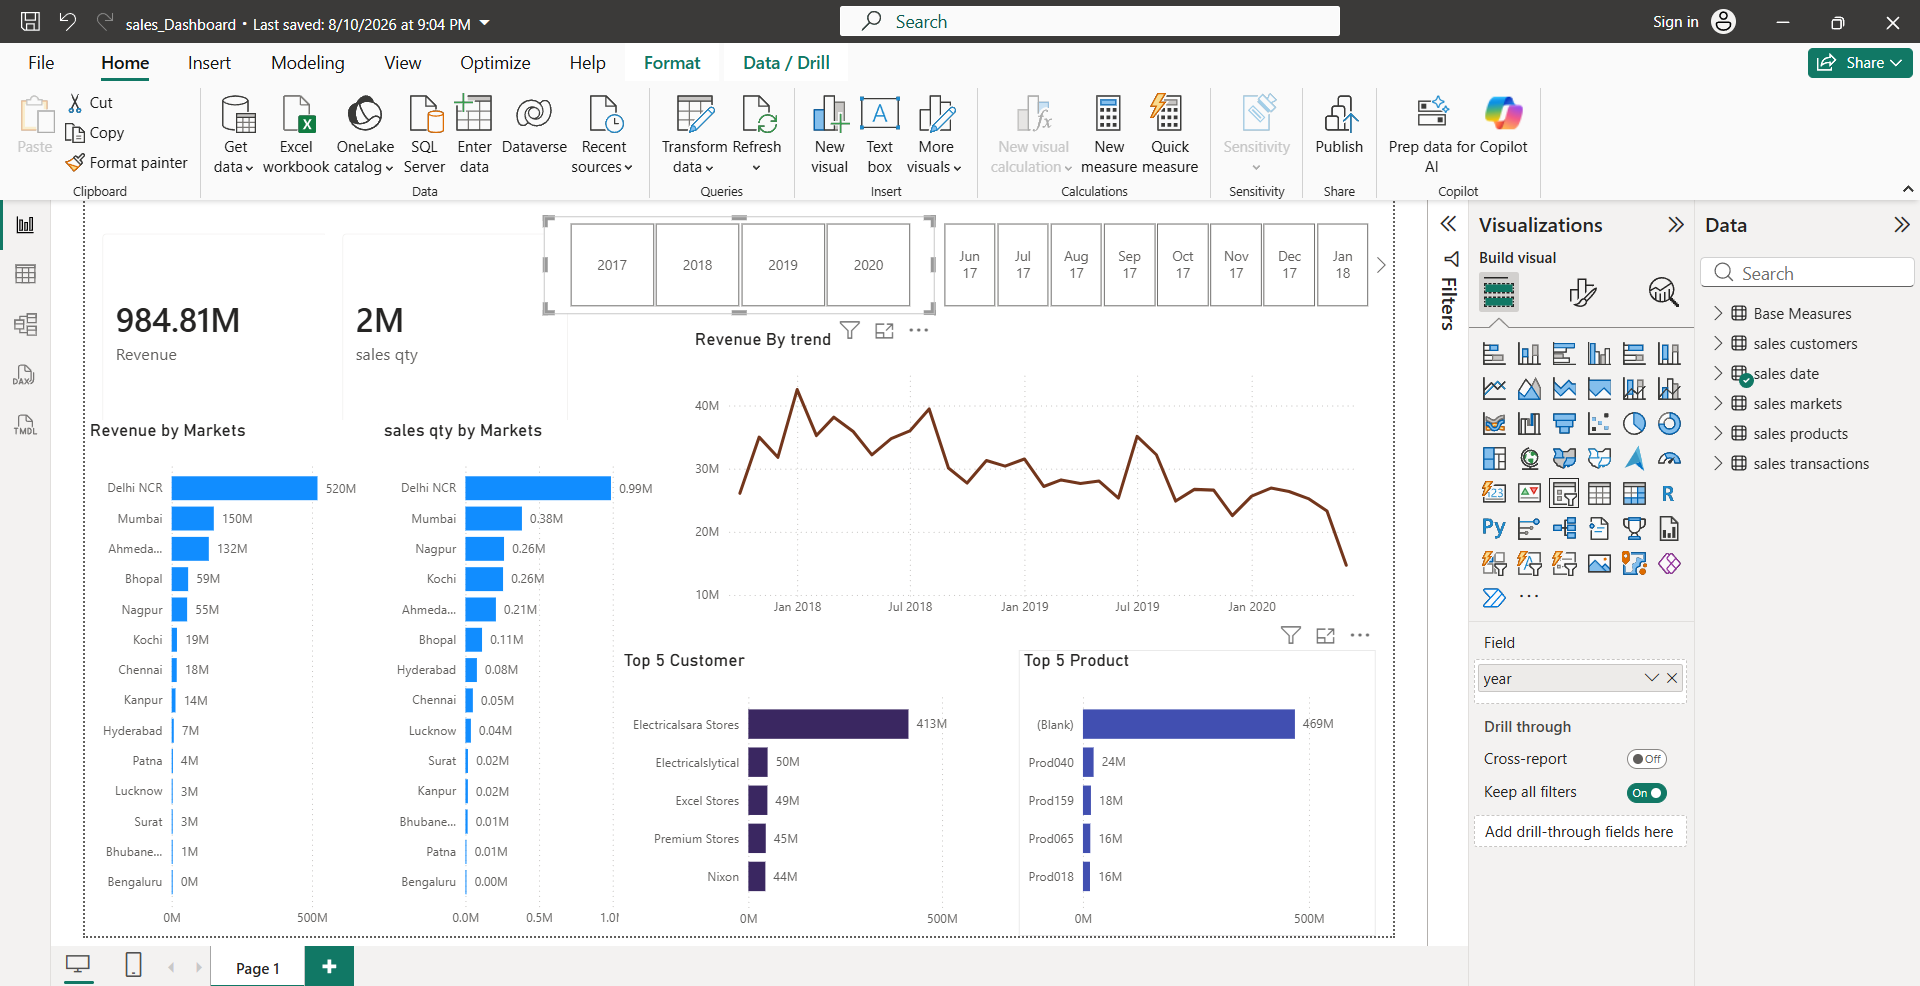

This screenshot's page, from the dashboard's own definition file:
{"tool":"powerbi","page":{"name":"Page 1","canvas":[1280,720],"ordinal":0},"visuals":[{"type":"cardVisual","fields":{"Data":["Base Measures.Revenue"]},"box":[0,0,255.6,221.3],"z":0},{"type":"cardVisual","fields":{"Data":["Base Measures.sales qty"]},"box":[234.8,15.9,255.6,221.3],"z":1000},{"type":"barChart","title":"Revenue by Markets","fields":{"Y":["Base Measures.Revenue"],"Category":["sales markets.markets_name"]},"box":[0,215.1,287.4,505],"z":2000},{"type":"barChart","title":"sales qty by Markets","fields":{"Y":["Base Measures.sales qty"],"Category":["sales markets.markets_name"]},"box":[287.5,215,287.4,505],"z":3000},{"type":"slicer","fields":{"Values":["sales date.year"]},"box":[448.8,16.2,382.5,95],"z":4000},{"type":"slicer","fields":{"Values":["sales date.cy_date"]},"box":[815,16.2,465,95],"z":5000},{"type":"barChart","title":"Top 5 Customer","fields":{"Y":["Base Measures.Revenue"],"Category":["sales customers.custmer_name"]},"box":[521.9,439.7,375.3,280.8],"z":6000},{"type":"barChart","title":"Top 5 Product","fields":{"Y":["Base Measures.Revenue"],"Category":["sales products.product_code"]},"box":[913.7,439.7,349.3,280.8],"z":6001},{"type":"lineChart","title":"Revenue By trend","fields":{"Y":["Base Measures.Revenue"],"Category":["sales date.cy_date.Variation.Date Hierarchy.Year","sales date.cy_date.Variation.Date Hierarchy.Quarter","sales date.cy_date.Variation.Date Hierarchy.Month","sales date.cy_date.Variation.Date Hierarchy.Day"]},"box":[591.8,126,671.2,290.4],"z":6002}]}

Visuals, with their boxes on the page's 1280x720 design canvas (x1, y1, x2, y2). These are canvas units, not pixel positions in the 1920x986 screenshot, which may show the page scaled, cropped or inside an application window:
cardVisual - Base Measures.Revenue: x1=0, y1=0, x2=256, y2=221
cardVisual - Base Measures.sales qty: x1=235, y1=16, x2=490, y2=237
"Revenue by Markets" barChart: x1=0, y1=215, x2=287, y2=720
"sales qty by Markets" barChart: x1=288, y1=215, x2=575, y2=720
slicer - sales date.year: x1=449, y1=16, x2=831, y2=111
slicer - sales date.cy_date: x1=815, y1=16, x2=1280, y2=111
"Top 5 Customer" barChart: x1=522, y1=440, x2=897, y2=720
"Top 5 Product" barChart: x1=914, y1=440, x2=1263, y2=720
"Revenue By trend" lineChart: x1=592, y1=126, x2=1263, y2=416
